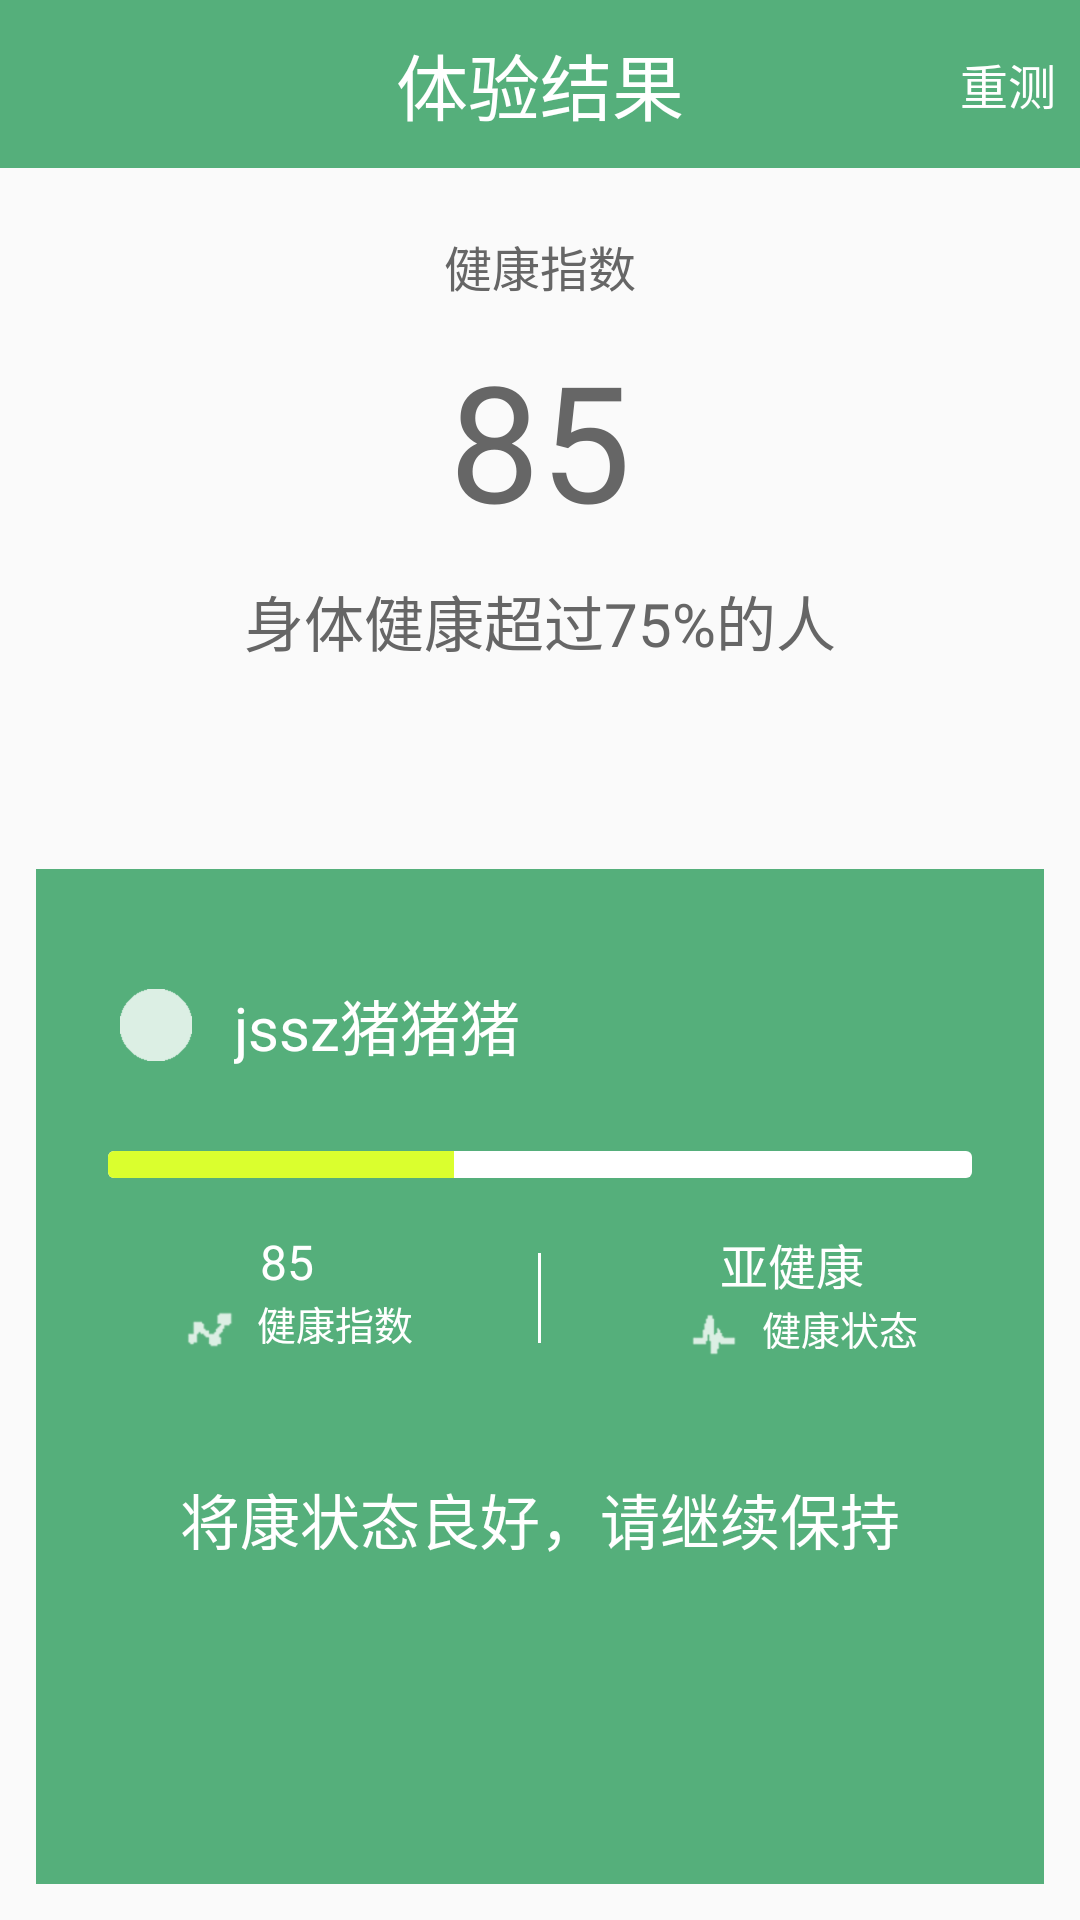

Icon click points for this 1080 x 1920 phone screenshot, format point (x, y):
health condition: point (714, 1334)
health figure: point (210, 1330)
